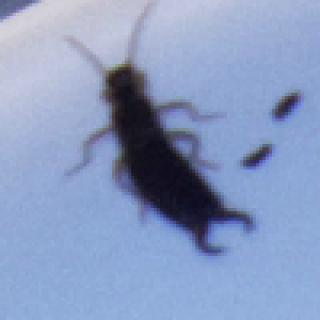earwig: (55, 0, 256, 262)
